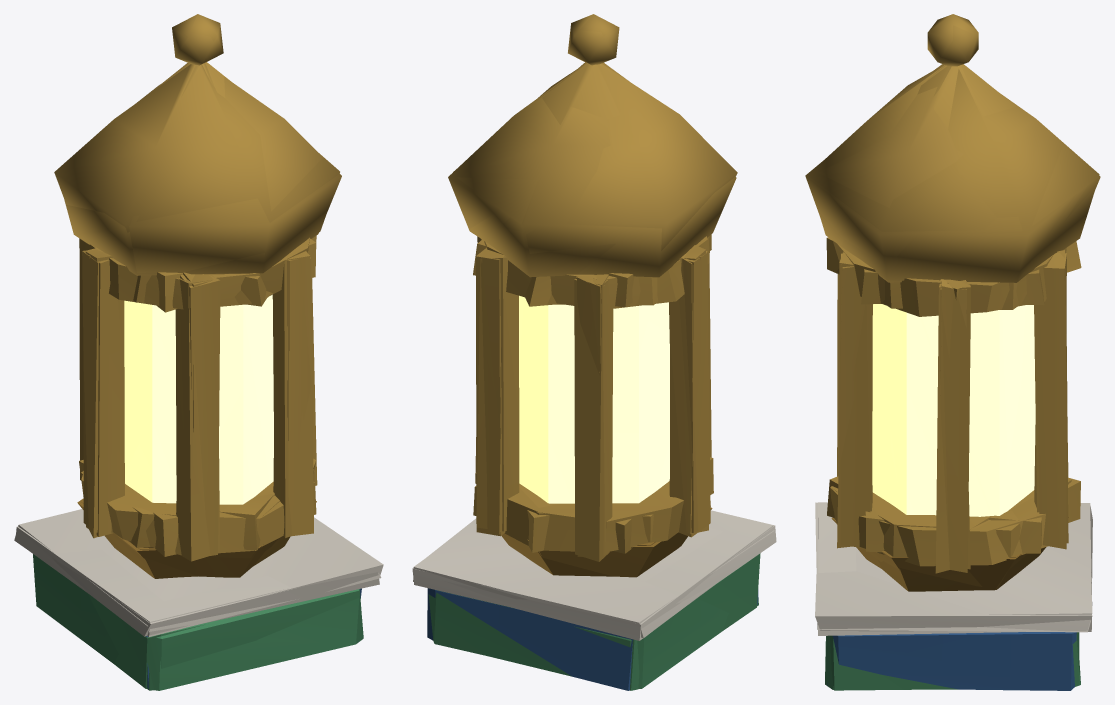
The model's file is lantern.brass.glb.
3 views of the same model, side by side, from view 1: azimuth 30°, elevation 25°; view 2: azimuth 150°, elevation 25°; view 3: azimuth 270°, elevation 25° (orthographic). The views are drawn at different scales.
Parts seen in each view (by area): view 1: lantern.brass.v0.mesh, lantern.brass.v1.mesh, lantern.brass.v2.mesh; view 2: lantern.brass.v2.mesh, lantern.brass.v0.mesh, lantern.brass.v1.mesh; view 3: lantern.brass.v2.mesh, lantern.brass.v1.mesh, lantern.brass.v0.mesh.
Boxes of the visible parts, x1,y1,x2,y2 form: lantern.brass.v0.mesh: [14, 14, 383, 690]; lantern.brass.v1.mesh: [51, 14, 379, 690]; lantern.brass.v2.mesh: [16, 14, 381, 688]; lantern.brass.v2.mesh: [413, 45, 772, 690]; lantern.brass.v0.mesh: [412, 14, 774, 688]; lantern.brass.v1.mesh: [413, 14, 776, 690]; lantern.brass.v2.mesh: [817, 14, 1099, 690]; lantern.brass.v1.mesh: [805, 14, 1100, 689]; lantern.brass.v0.mesh: [807, 14, 1098, 690].
Bounding box in the file's own units: 0.4934 × 1.21 × 0.5208.
